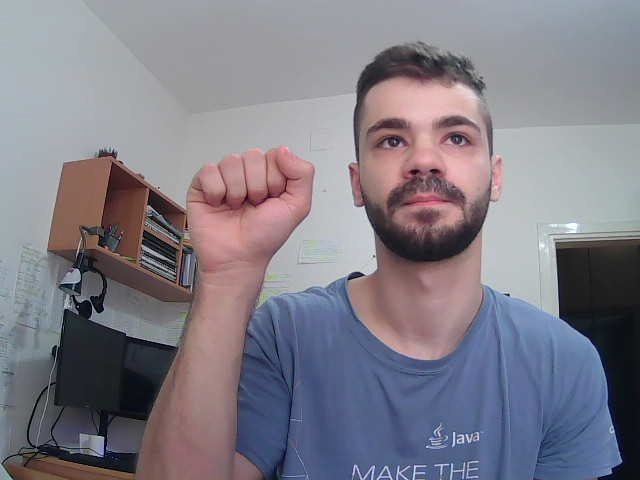a: (165, 132, 323, 266)
